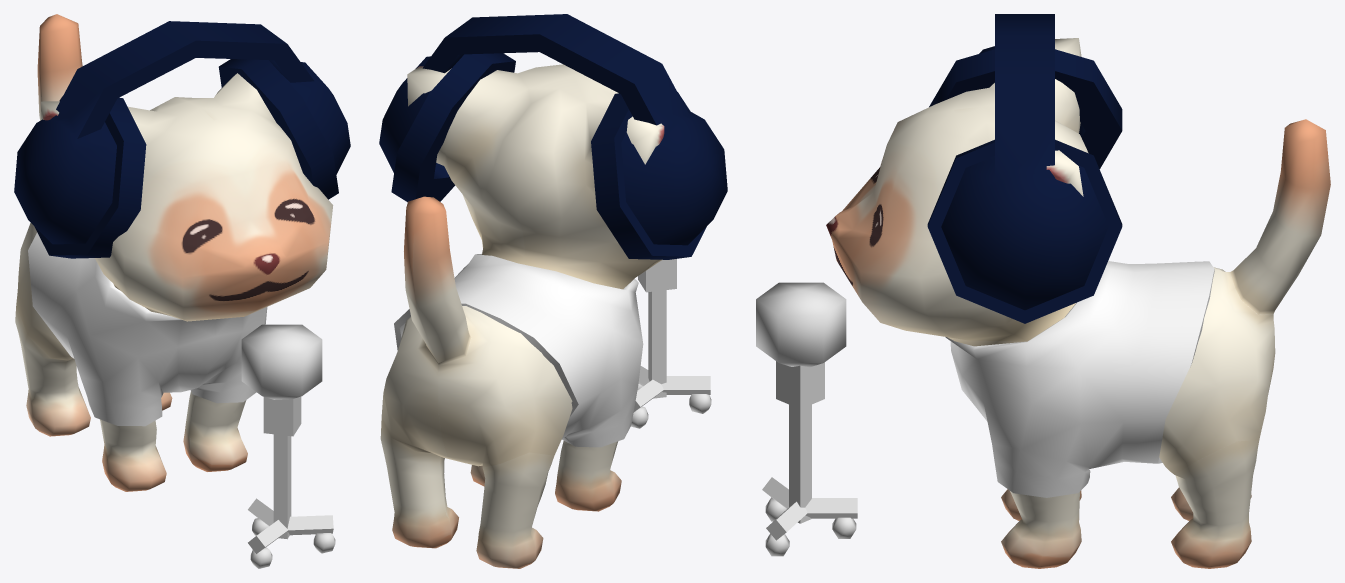
The model's file is Broadcaster Cat02.fbx.
3 views of the same model, side by side, from view 1: azimuth 30°, elevation 25°; view 2: azimuth 150°, elevation 25°; view 3: azimuth 270°, elevation 25° (orthographic). The views are drawn at different scales.
Parts seen in each view (by area): view 1: Cat_Base001, Broadcaster_Cat_Headphones, Broadcaster_Cat_Shirt, Broadcaster_Cat_Mic; view 2: Cat_Base001, Broadcaster_Cat_Headphones, Broadcaster_Cat_Shirt, Broadcaster_Cat_Mic; view 3: Cat_Base001, Broadcaster_Cat_Headphones, Broadcaster_Cat_Shirt, Broadcaster_Cat_Mic.
Boxes of the visible parts, left/top/right/bottom form: Cat_Base001: left=15, top=14, right=333, bottom=491; Broadcaster_Cat_Headphones: left=14, top=21, right=350, bottom=258; Broadcaster_Cat_Shirt: left=28, top=232, right=267, bottom=426; Broadcaster_Cat_Mic: left=241, top=324, right=335, bottom=568; Cat_Base001: left=380, top=64, right=664, bottom=568; Broadcaster_Cat_Headphones: left=379, top=14, right=727, bottom=259; Broadcaster_Cat_Shirt: left=394, top=254, right=643, bottom=447; Broadcaster_Cat_Mic: left=631, top=259, right=711, bottom=428; Cat_Base001: left=826, top=38, right=1330, bottom=568; Broadcaster_Cat_Headphones: left=927, top=14, right=1122, bottom=323; Broadcaster_Cat_Shirt: left=945, top=261, right=1214, bottom=497; Broadcaster_Cat_Mic: left=756, top=282, right=857, bottom=556.
Size of the model in its own units: 2.24 by 3.22 by 3.1.
Materials: 3 (1 with a texture image).
